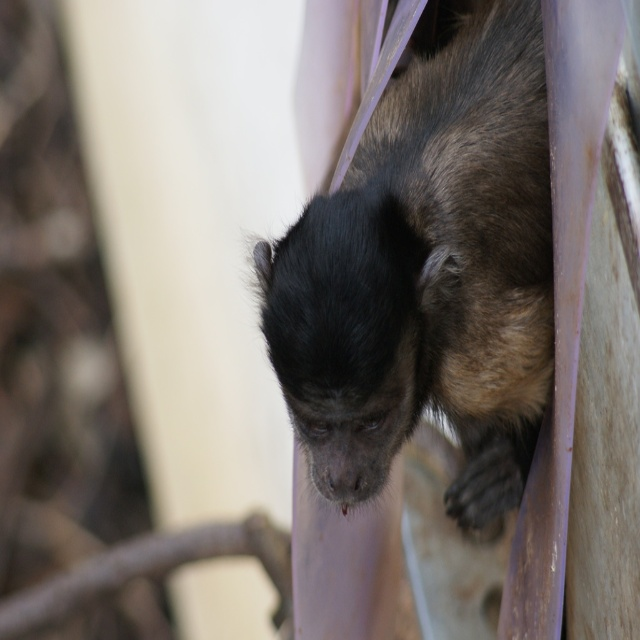Monkey: (246, 0, 556, 531)
